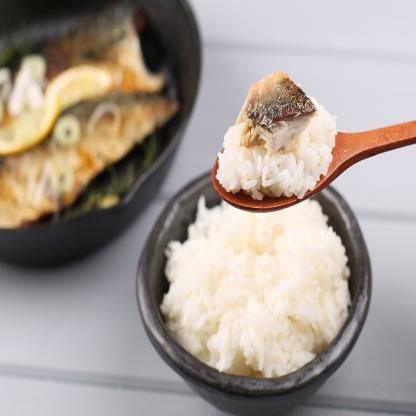Peixe: (0, 90, 183, 236), (239, 65, 316, 161), (39, 29, 172, 66)
